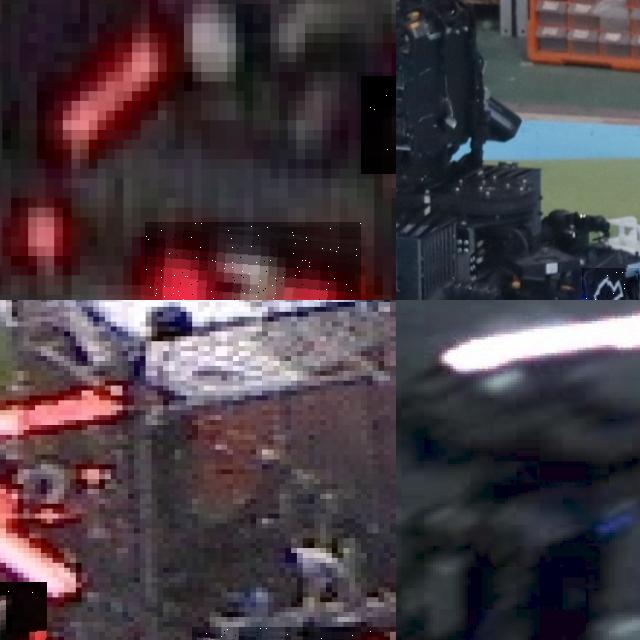Bs: (582, 268, 640, 300)
R1: (0, 582, 46, 640)
R3: (145, 222, 361, 300), (361, 76, 396, 173)
